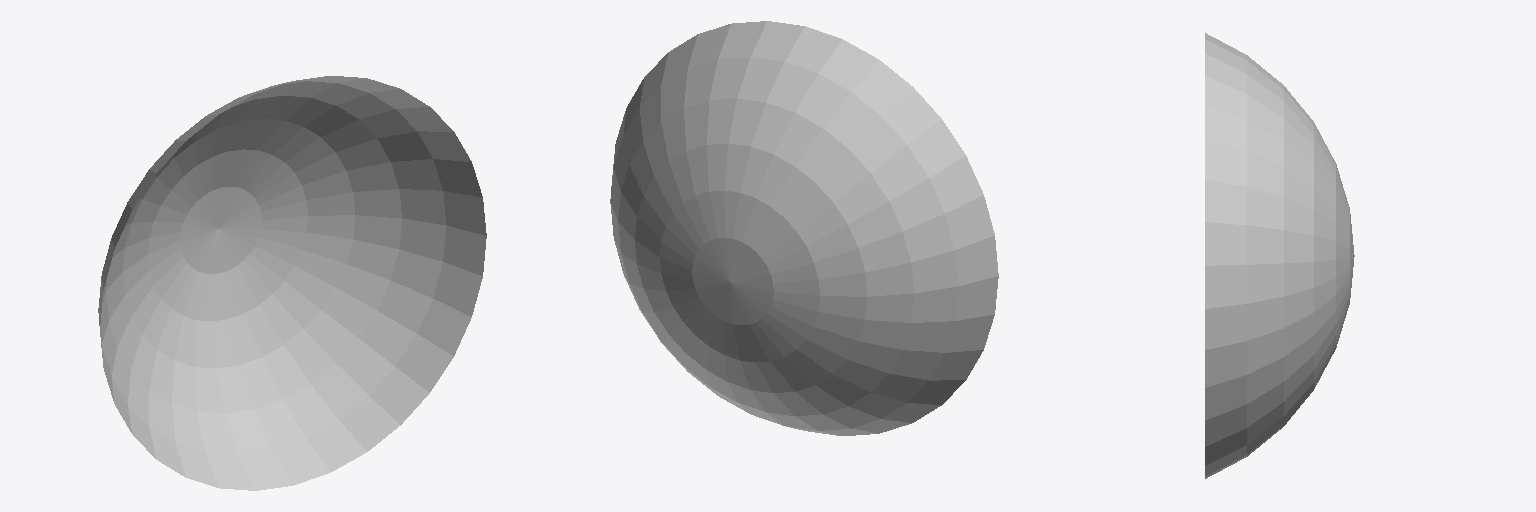
File: beam_tuto_base.obj
3 views of the same model, side by side, from view 1: azimuth 30°, elevation 25°; view 2: azimuth 150°, elevation 25°; view 3: azimuth 270°, elevation 25° (orthographic).
Visible parts, largest first — view 1: Sphere; view 2: Sphere; view 3: Sphere.
Part boxes in pixels (bbox=[...]): Sphere: bbox=[98, 76, 486, 490]; Sphere: bbox=[610, 21, 998, 435]; Sphere: bbox=[1205, 33, 1354, 478].
Size of the model in its own units: 4.07 by 4.07 by 1.36.